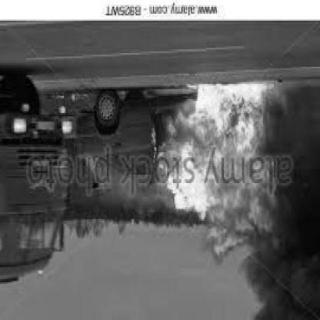Smoke: (241, 252, 320, 320)
other: (13, 118, 27, 134), (22, 104, 30, 112), (60, 108, 66, 114)
